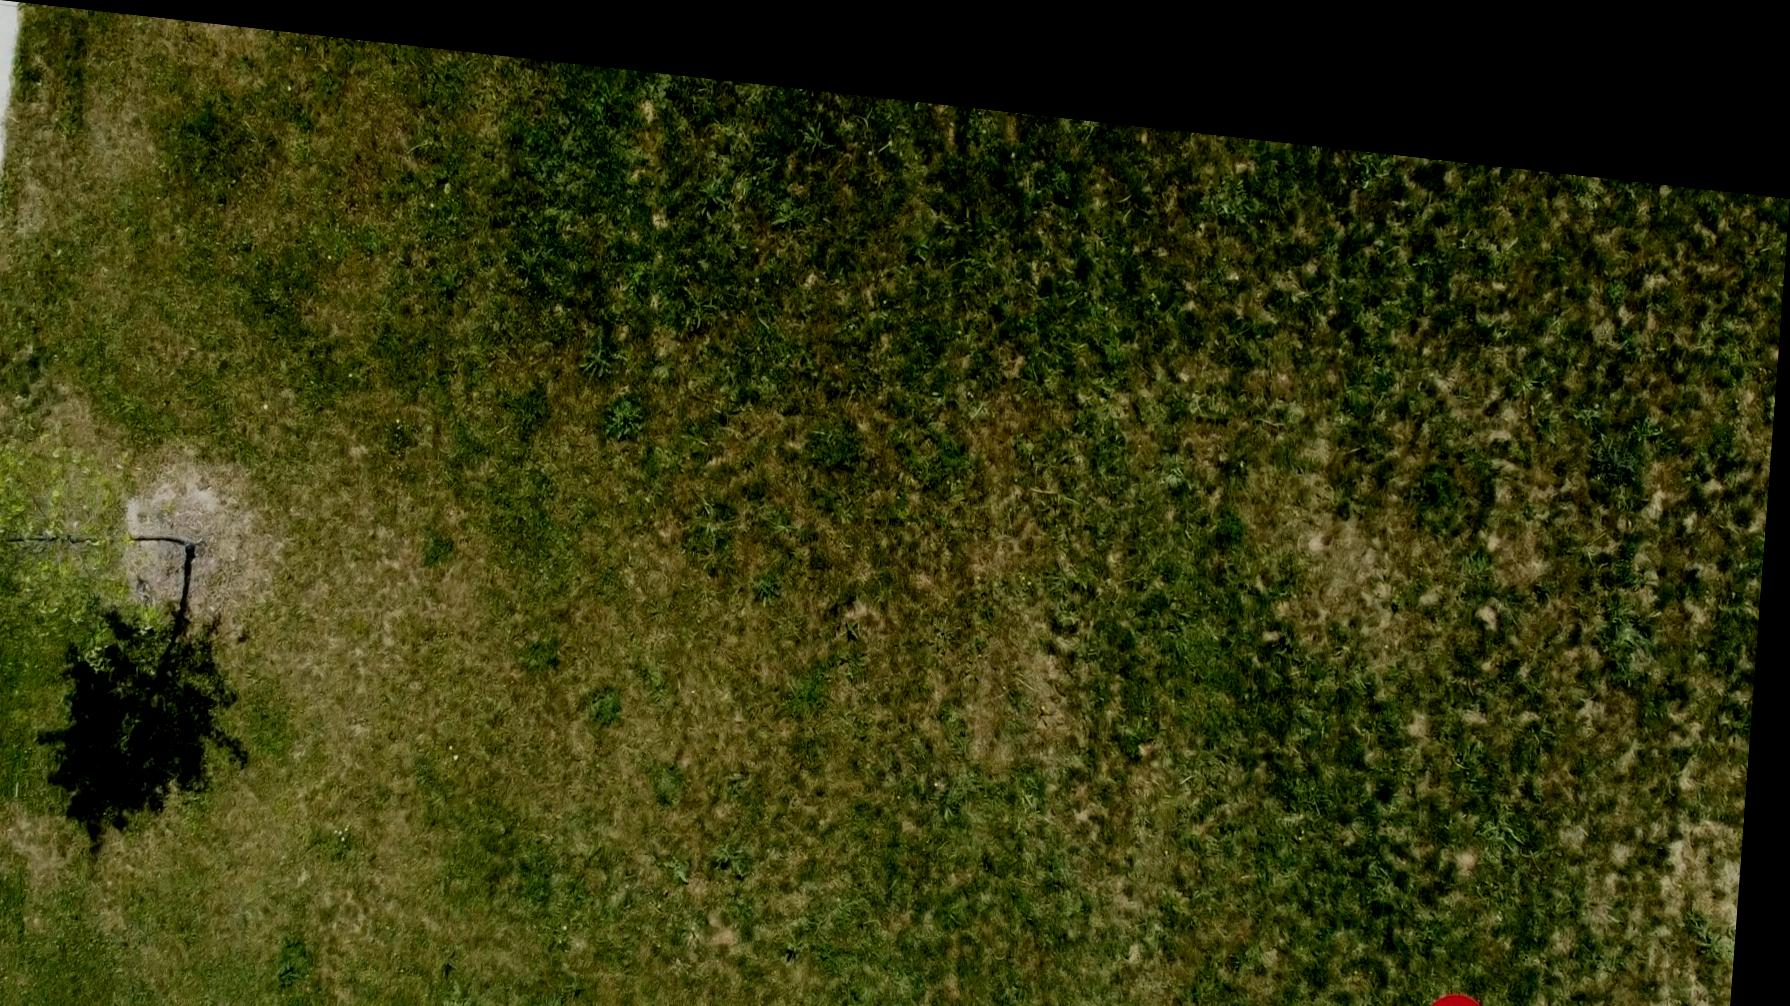Red: (1430, 952, 1508, 1006)
